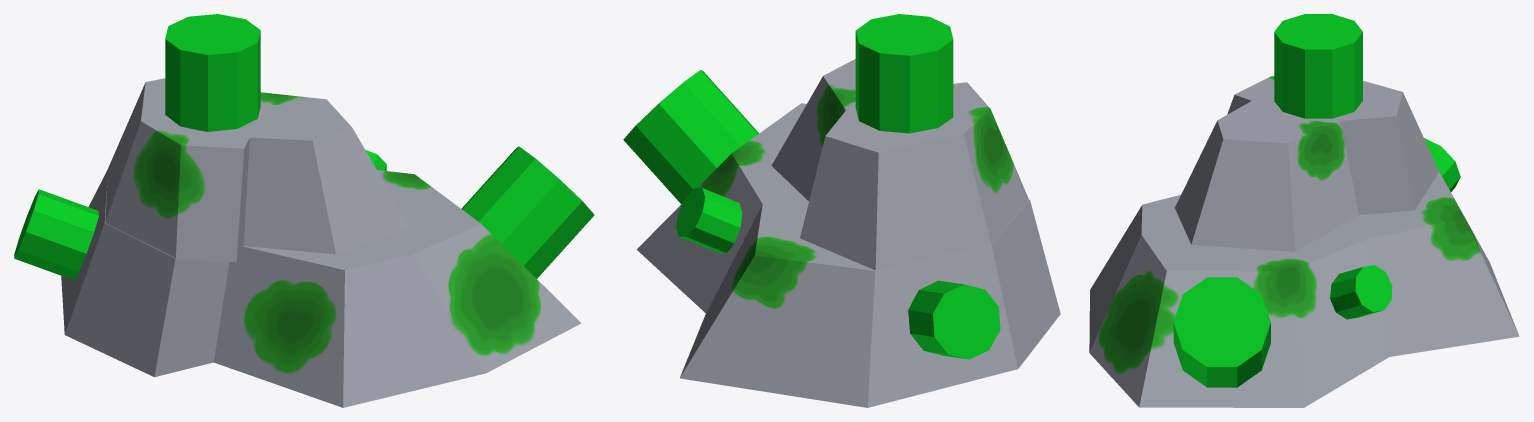
File: EsmeraldaMusgo1.fbx
3 views of the same model, side by side, from view 1: azimuth 30°, elevation 25°; view 2: azimuth 150°, elevation 25°; view 3: azimuth 270°, elevation 25° (orthographic). The views are drawn at different scales.
Parts seen in each view (by area): view 1: base.032, esmeralda.009, Cylinder.019, Cylinder.018; view 2: base.032, esmeralda.009, Cylinder.019, Cylinder.018, Cylinder.017; view 3: base.032, Cylinder.019, esmeralda.009, Cylinder.017, Cylinder.018.
Part boxes in pixels (bbox=[...]): base.032: bbox=[61, 78, 581, 407]; esmeralda.009: bbox=[165, 14, 260, 131]; Cylinder.019: bbox=[461, 146, 594, 278]; Cylinder.018: bbox=[14, 189, 98, 280]; base.032: bbox=[636, 59, 1060, 407]; esmeralda.009: bbox=[855, 14, 953, 133]; Cylinder.019: bbox=[623, 70, 758, 203]; Cylinder.018: bbox=[908, 280, 1000, 359]; Cylinder.017: bbox=[676, 188, 742, 252]; base.032: bbox=[1089, 76, 1519, 407]; Cylinder.019: bbox=[1173, 277, 1270, 387]; esmeralda.009: bbox=[1274, 14, 1362, 118]; Cylinder.017: bbox=[1330, 265, 1392, 319]; Cylinder.018: bbox=[1424, 138, 1460, 191].
Size of the model in its own units: 153 by 89.29 by 136.
